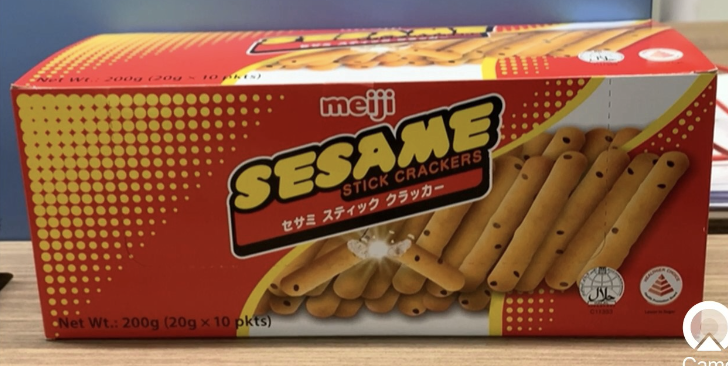crackers_200g-299g: (47, 67, 681, 333)
